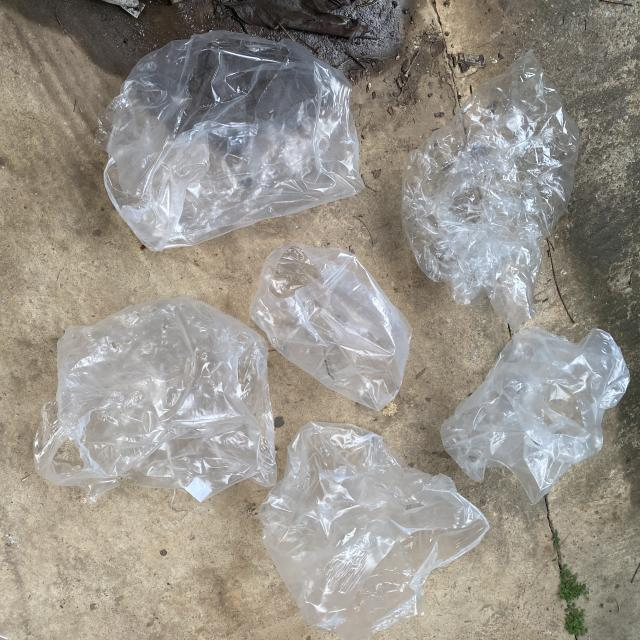Single-layer Plastic: (96, 34, 364, 254), (259, 422, 489, 640), (34, 296, 276, 502), (401, 51, 579, 330), (441, 328, 630, 504), (250, 242, 412, 410)
